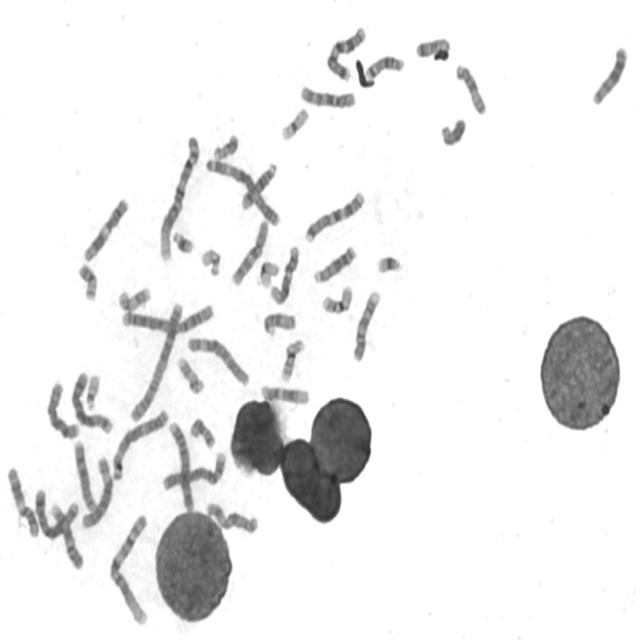A1: (157, 130, 201, 264), (106, 509, 151, 628)
A2: (127, 296, 185, 425), (118, 300, 216, 336)
A3: (202, 154, 282, 229), (109, 406, 171, 482)
B4: (160, 448, 228, 492), (166, 418, 196, 513)
B5: (69, 368, 115, 436), (32, 485, 81, 541)
C10: (229, 217, 270, 288), (298, 82, 357, 110)
C11: (81, 194, 131, 264), (4, 464, 40, 540)
C12: (268, 242, 301, 307), (258, 381, 311, 407)
C6: (185, 333, 251, 388), (79, 452, 115, 530)
C7: (302, 187, 367, 245), (324, 21, 368, 83)
C8: (44, 378, 82, 441), (71, 437, 98, 512)
C9: (48, 500, 85, 572), (350, 286, 382, 363)
D13: (590, 42, 629, 108), (312, 241, 358, 286)
D14: (238, 158, 279, 212), (364, 52, 406, 82)
D15: (453, 60, 488, 117), (260, 309, 298, 338)
E16: (278, 336, 306, 383), (320, 281, 354, 316)
E17: (175, 352, 206, 397), (115, 282, 153, 312)
E18: (413, 33, 452, 61), (206, 133, 242, 162)
F19: (278, 105, 310, 142), (257, 257, 280, 289)
F20: (188, 413, 217, 451), (75, 260, 98, 302)
G21: (169, 227, 196, 256), (374, 251, 404, 275)
G22: (198, 245, 223, 278), (83, 370, 102, 411)
X: (204, 498, 260, 536)
Y: (438, 115, 468, 148)
